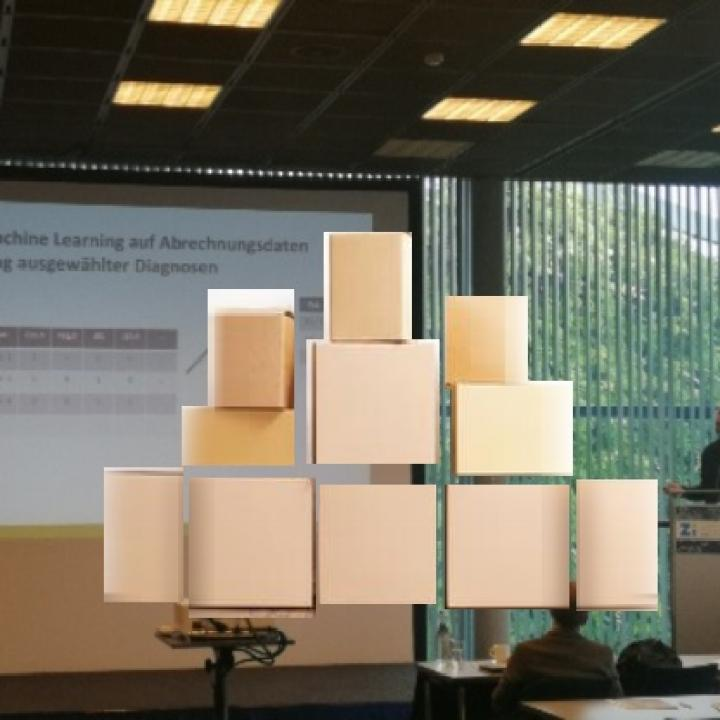box: (187, 476, 318, 621), (306, 338, 442, 468), (443, 484, 573, 612), (316, 483, 440, 607), (450, 380, 576, 478), (103, 466, 186, 605), (576, 478, 660, 614), (207, 288, 297, 408), (323, 232, 414, 346), (444, 296, 530, 391), (180, 405, 298, 467)
